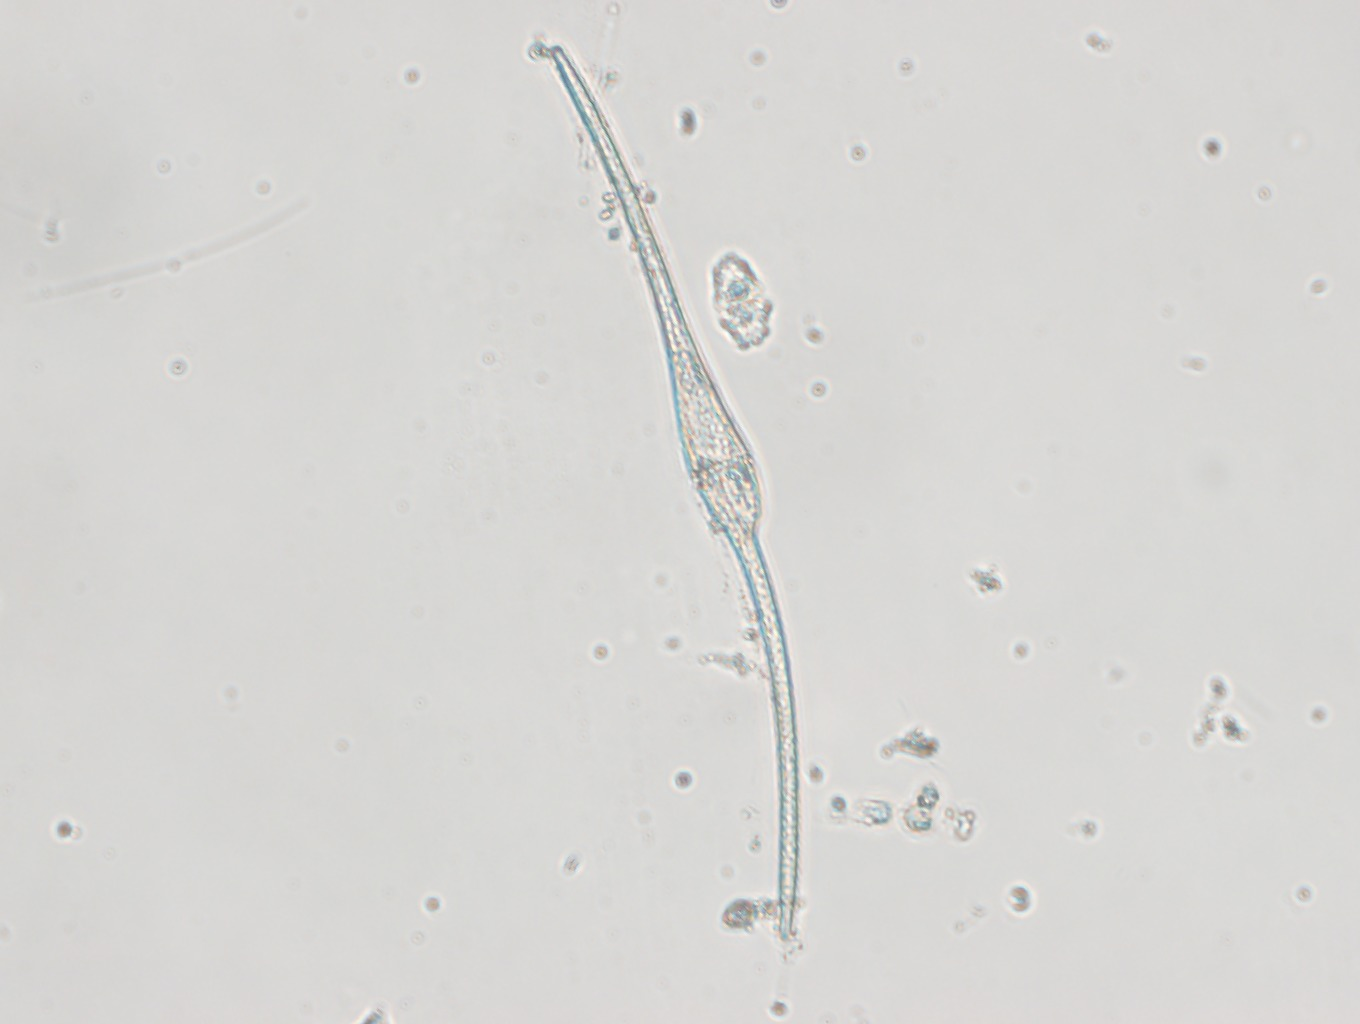ceratium fusus: (549, 43, 814, 945)
